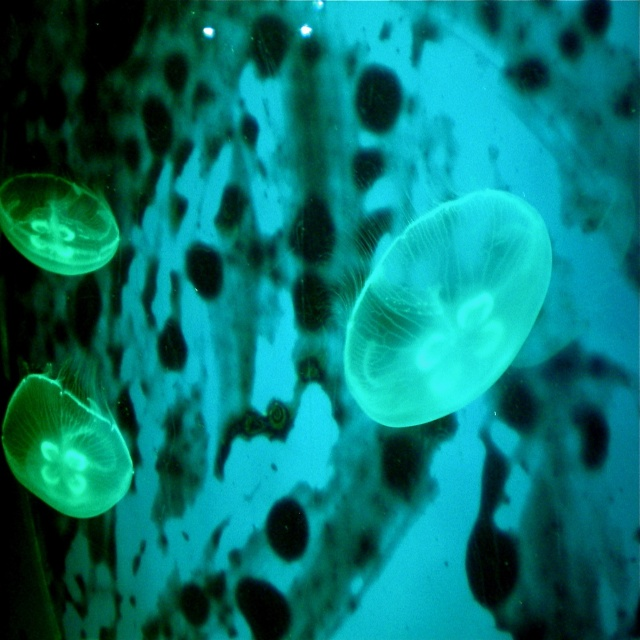Jellyfish: (306, 152, 554, 428), (0, 350, 140, 522), (0, 170, 121, 278)
